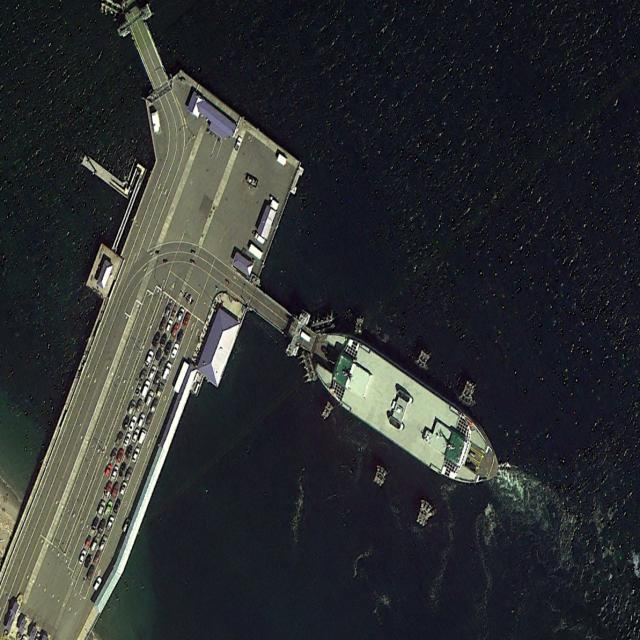RoRo: (302, 318, 507, 503)
